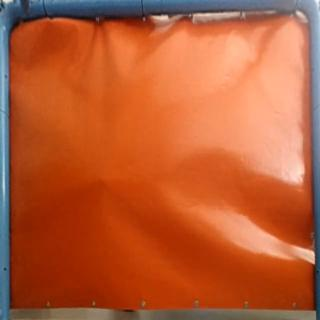Hit-hRxx: (95, 176, 108, 189)
